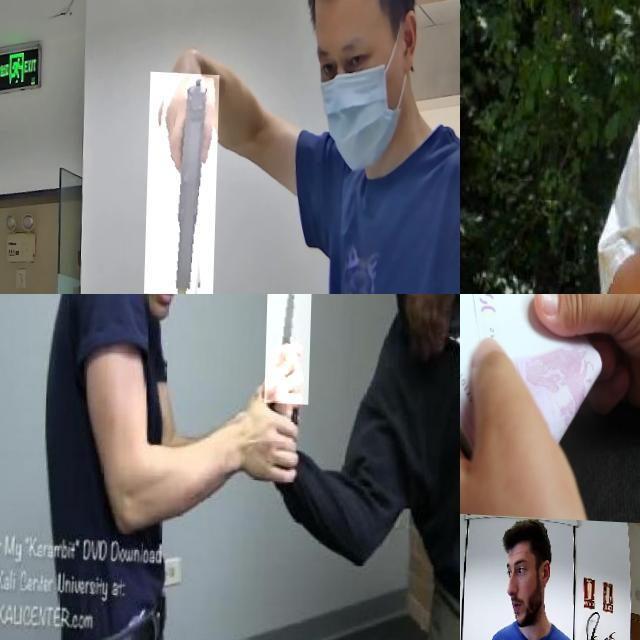-: (266, 294, 313, 400)
gun-knife-thesis - v11 Yolov5 augmented: (148, 68, 222, 293)
